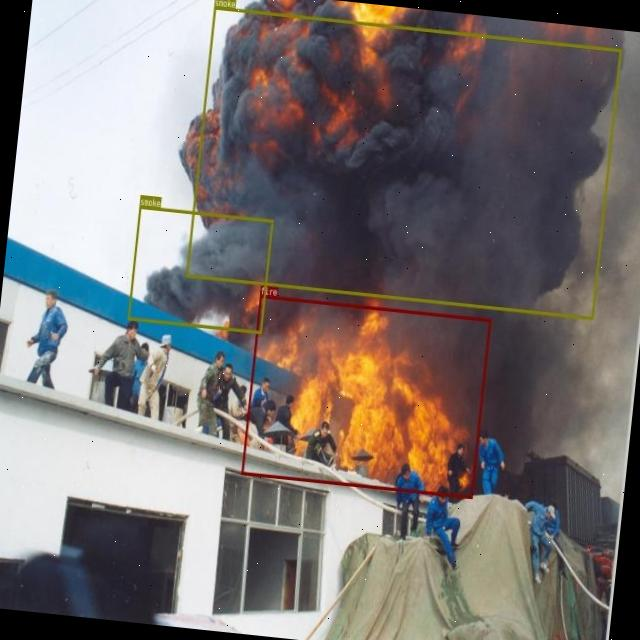fire: (240, 294, 490, 498)
smoke: (186, 5, 621, 318), (127, 205, 272, 332)
